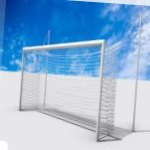goals: (18, 38, 124, 143)
